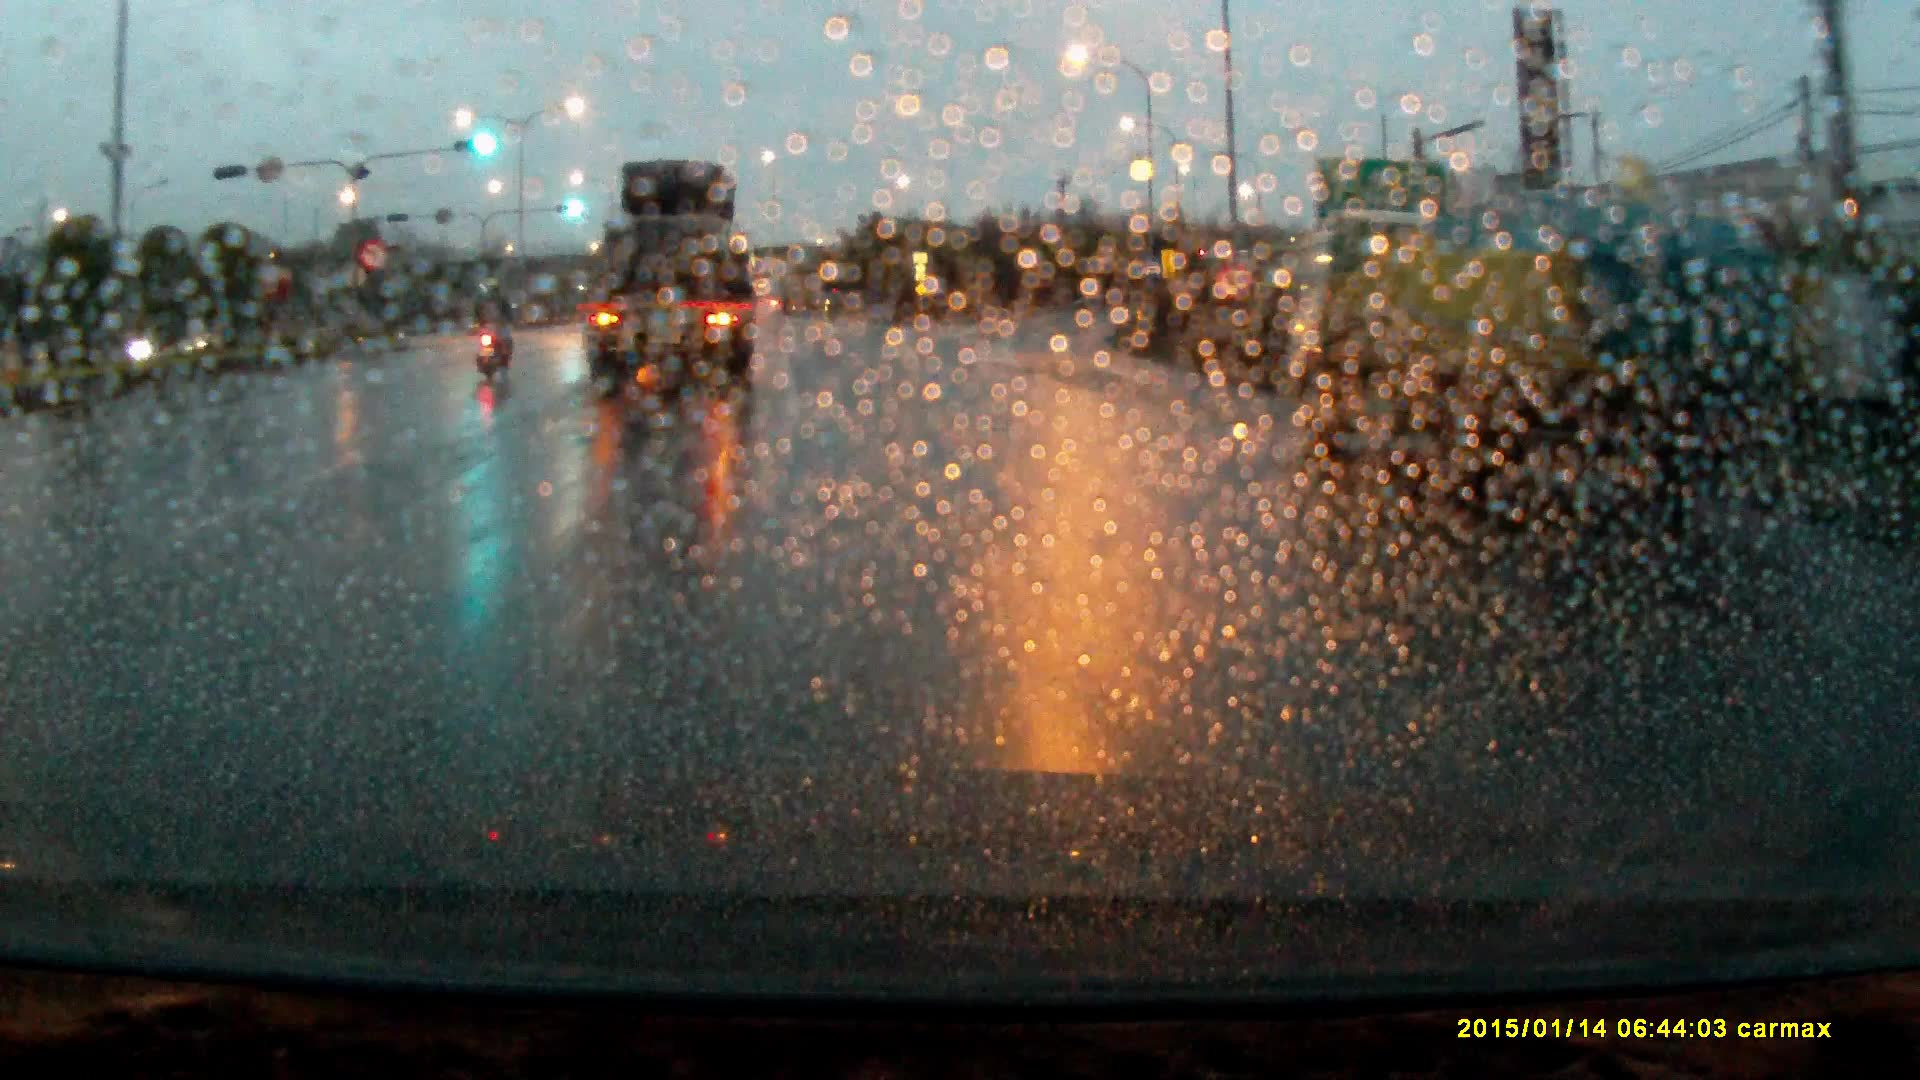rider: (470, 281, 519, 392)
vehicle: (1281, 196, 1768, 508), (580, 162, 759, 402)
